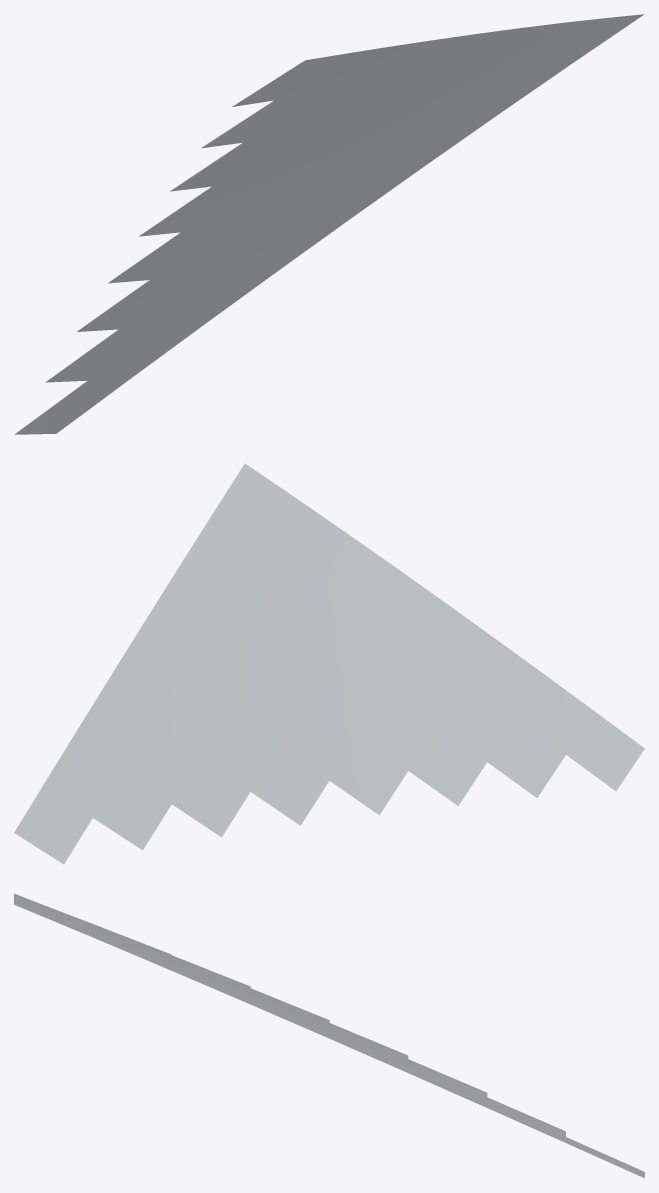
File: alpine-8-0.glb
3 renders of one model, top to bottom at view 1: azimuth 30°, elevation 25°; view 2: azimuth 150°, elevation 25°; view 3: azimuth 270°, elevation 25°, orthographic. The views are drawn at different scales.
Visible parts, largest first — view 1: alpine-8-0; view 2: alpine-8-0; view 3: alpine-8-0.
Part boxes in pixels (x1,y1,x2,y2): alpine-8-0: [14, 14, 644, 434]; alpine-8-0: [14, 463, 644, 864]; alpine-8-0: [14, 893, 644, 1178].
Bounding box in the file's own units: 64 × 33.64 × 64.
Materials: 1 (1 with a texture image).
